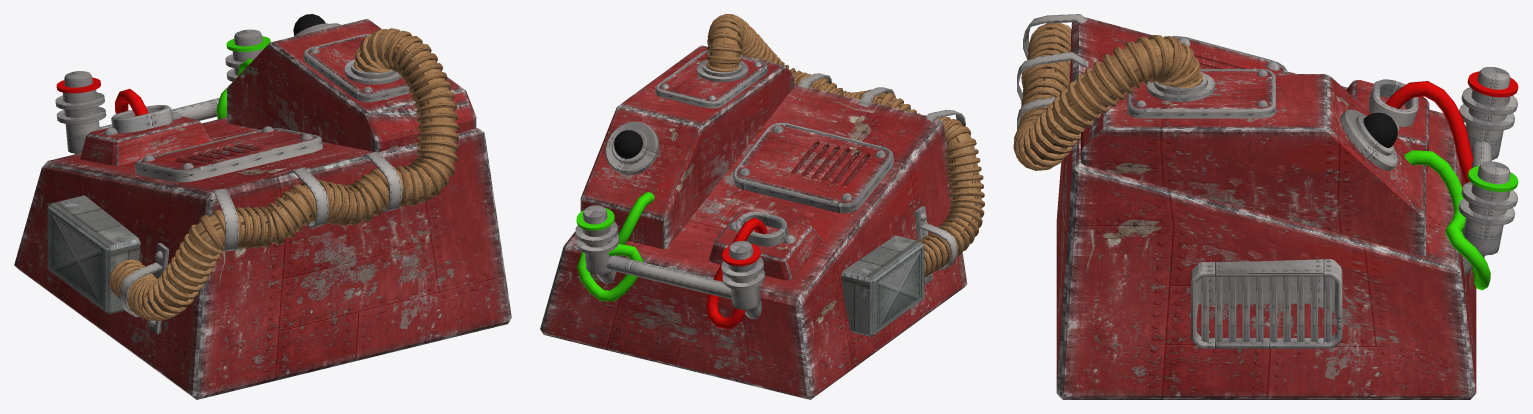
File: static.glb
3 renders of one model, left to right at view 1: azimuth 30°, elevation 25°; view 2: azimuth 150°, elevation 25°; view 3: azimuth 270°, elevation 25°, orthographic. The views are drawn at different scales.
Visible parts, largest first — view 1: Cube_10, Cube_9, Cube_5, Sweep_12, Cube_7, Cube_Null, Sweep_5, Cube_3, Cylinder_2_2, Sweep_7, Sweep_4, Sweep_9 (+8 smaller); view 2: Cube_10, Cube_9, Cube_Null, Cube_5, Cube_7, Sweep_12, Sweep_5, Sweep_1, Cylinder, Cube_3, Cylinder_4_3, Sweep (+16 smaller); view 3: Cube_10, Cube_9, Cube, Sweep_12, Cube_3, Sweep_1, Sweep, Sweep_4, Cylinder_3_3, Cube_7, Cube_Null, Cylinder_2_2 (+25 smaller).
Part boxes in pixels (left/top/right/bottom): Cube_10: left=14, top=117, right=511, bottom=399; Cube_9: left=227, top=19, right=476, bottom=151; Cube_5: left=47, top=195, right=140, bottom=314; Sweep_12: left=117, top=32, right=455, bottom=314; Cube_7: left=80, top=116, right=211, bottom=165; Cube_Null: left=139, top=129, right=316, bottom=169; Sweep_5: left=134, top=128, right=323, bottom=182; Cube_3: left=307, top=35, right=405, bottom=93; Cylinder_2_2: left=62, top=89, right=99, bottom=153; Sweep_7: left=111, top=105, right=172, bottom=133; Sweep_4: left=303, top=34, right=409, bottom=102; Sweep_9: left=212, top=188, right=238, bottom=251; Cube_10: left=540, top=84, right=967, bottom=399; Cube_9: left=580, top=45, right=794, bottom=249; Cube_Null: left=737, top=125, right=888, bottom=203; Cube_5: left=841, top=235, right=924, bottom=336; Cube_7: left=709, top=209, right=822, bottom=280; Sweep_12: left=708, top=21, right=981, bottom=269; Sweep_5: left=733, top=123, right=894, bottom=213; Sweep_1: left=577, top=192, right=654, bottom=301; Cylinder: left=606, top=255, right=731, bottom=299; Cube_3: left=659, top=51, right=764, bottom=101; Cylinder_4_3: left=605, top=121, right=659, bottom=175; Sweep: left=706, top=217, right=767, bottom=329; Cube_10: left=1056, top=17, right=1476, bottom=399; Cube_9: left=1081, top=74, right=1425, bottom=255; Cube: left=1191, top=259, right=1342, bottom=348; Sweep_12: left=1024, top=29, right=1198, bottom=164; Cube_3: left=1131, top=71, right=1271, bottom=108; Sweep_1: left=1404, top=150, right=1490, bottom=290; Sweep: left=1385, top=81, right=1472, bottom=183; Sweep_4: left=1127, top=69, right=1275, bottom=118; Cylinder_3_3: left=1463, top=184, right=1510, bottom=255; Cube_7: left=1346, top=80, right=1429, bottom=172; Cube_Null: left=1177, top=38, right=1283, bottom=73; Cylinder_2_2: left=1465, top=89, right=1510, bottom=160.
Bounding box in the file's own units: 1.92 × 1.46 × 2.07.
8 materials, 8 textured.
